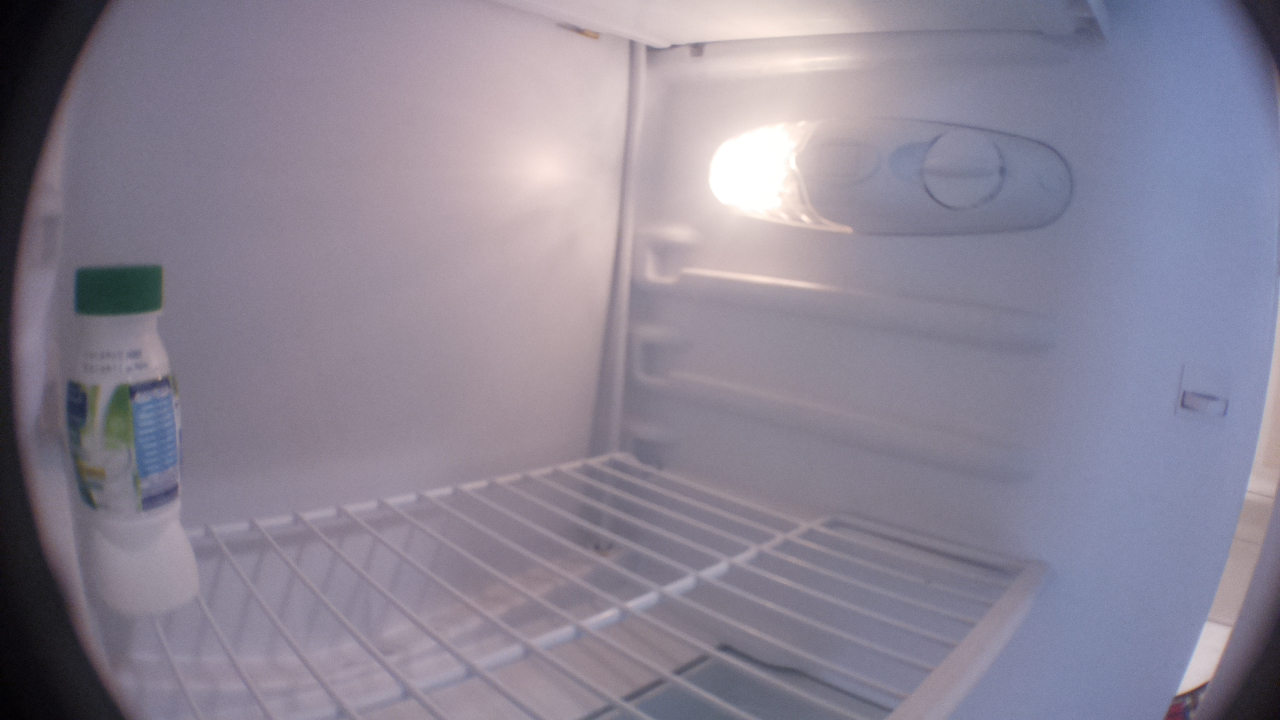laban: (65, 263, 197, 616)
